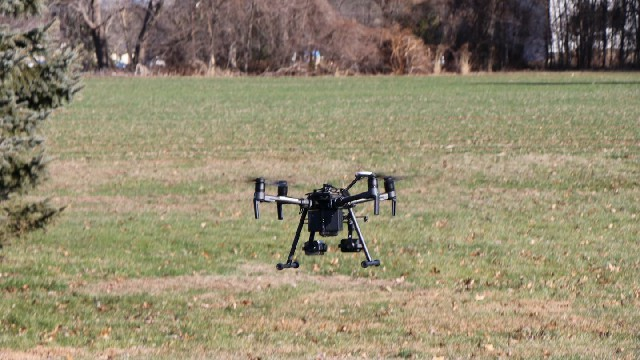maybay_khongnguoilai: (246, 166, 411, 270)
